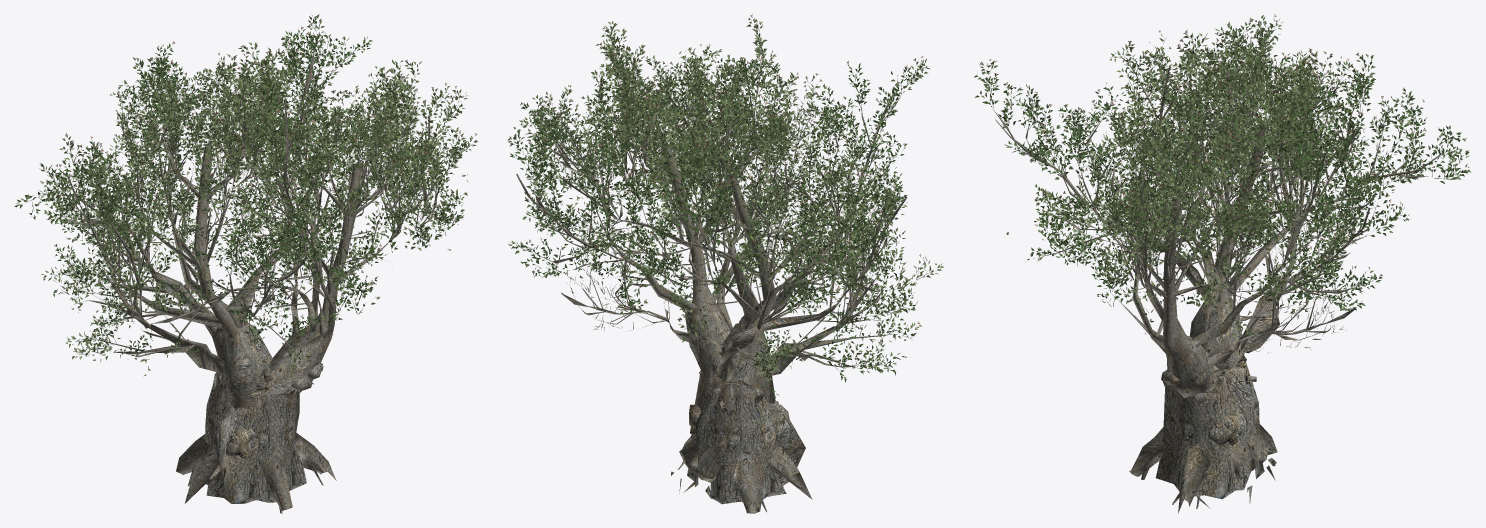
File: tree-olive.glb
3 renders of one model, left to right at view 1: azimuth 30°, elevation 25°; view 2: azimuth 150°, elevation 25°; view 3: azimuth 270°, elevation 25°, orthographic. The views are drawn at different scales.
Visible parts, largest first — view 1: Object_7, Object_5, Object_10; view 2: Object_7, Object_5, Object_10; view 3: Object_7, Object_5, Object_10.
Part boxes in pixels (<box>): Object_7: <box>14,14,478,377</box>; Object_5: <box>28,27,470,513</box>; Object_10: <box>31,15,477,359</box>; Object_7: <box>507,17,943,398</box>; Object_5: <box>514,29,933,513</box>; Object_10: <box>509,14,926,358</box>; Object_7: <box>974,15,1470,337</box>; Object_5: <box>986,24,1461,513</box>; Object_10: <box>979,14,1466,330</box>.
Bounding box in the file's own units: 10.75 × 11.68 × 11.53.
Materials: 4 (4 with a texture image).
